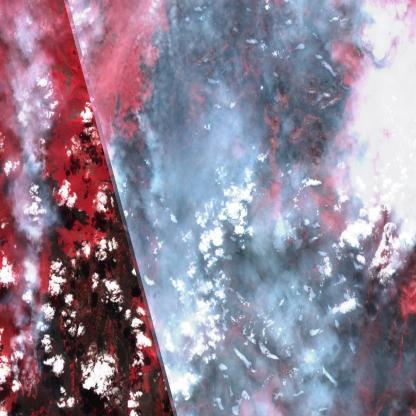fire: (20, 328, 43, 395), (107, 100, 144, 134)
